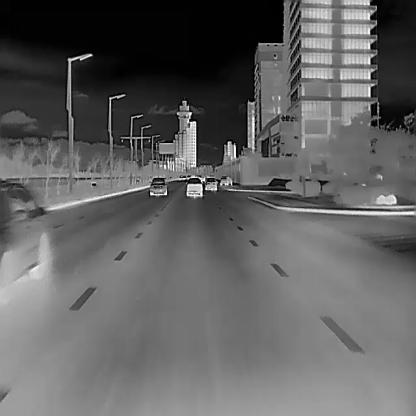car: (0, 178, 51, 290), (148, 176, 166, 197), (185, 176, 202, 196), (204, 177, 217, 190), (219, 174, 232, 184)
